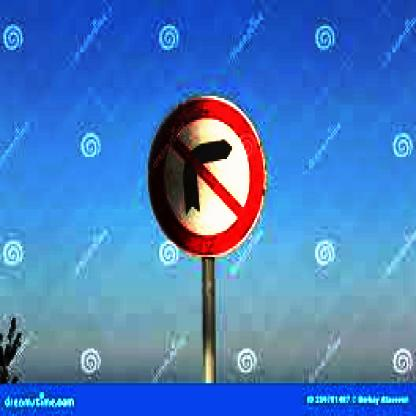No right turn: (143, 101, 268, 251)
